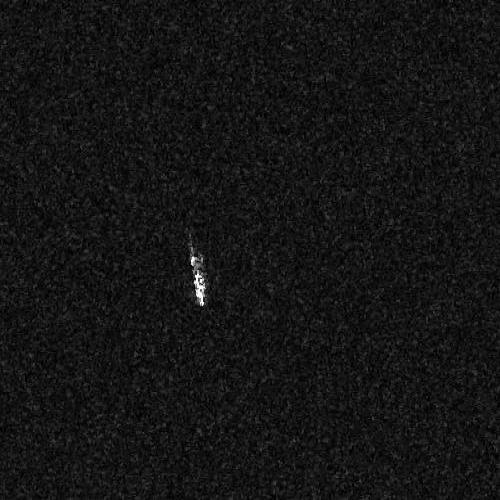ship: (188, 252, 208, 310)
